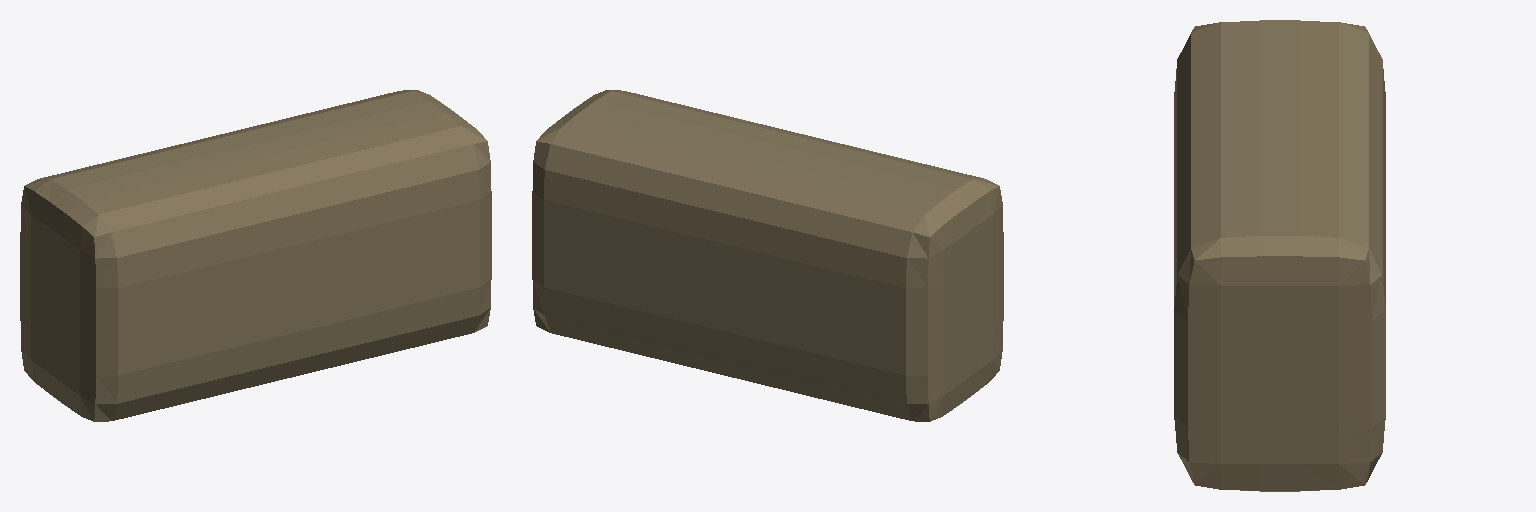
robot.urdf — block:
<?xml version="1.0"?>
<robot name="block">
  <link name="base_link">
    <visual>
      <origin xyz="0 0 0" rpy="0 0 0" />
      <geometry>
        <mesh filename="block.obj"/>      
      </geometry>
      <material name="tan">
        <color rgba="0.55 0.5 0.4 1"/>
      </material>
    </visual>
    <collision>
      <origin xyz="0 0 0" rpy="0 0 0" />
      <geometry>
        <mesh filename="block.obj"/>
      </geometry>
    </collision>
    <inertial>
      <mass value="0.2" />
      <inertia ixx="0.02" ixy="0.0" ixz="0.0" iyy="0.1" iyz="0.0" izz="0.1"/>
    </inertial>
  </link>
</robot>

--- What the picture shows (computed from the rendered views, not written in the file) ---
3 views of the same robot in one strip: view 1: azimuth 30°, elevation 25°; view 2: azimuth 150°, elevation 25°; view 3: azimuth 270°, elevation 25° (orthographic).
Model block with 1 links and 0 joints (none), rooted at base_link, posed every joint at zero.
Visible links, largest first — view 1: base_link; view 2: base_link; view 3: base_link.
Link boxes in pixels (x1,y1,x2,y2): base_link: (20, 90, 491, 421); base_link: (532, 90, 1003, 421); base_link: (1174, 20, 1385, 491).
Size in the robot's own frame: 50.8 by 19.05 by 25.4 metres.
Meshes: 1 distinct files referenced, 1 mesh visuals loaded (1 OBJ).
